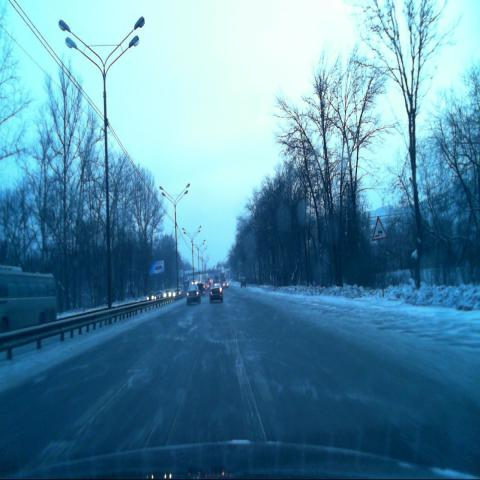1_19: (372, 216, 387, 241)
